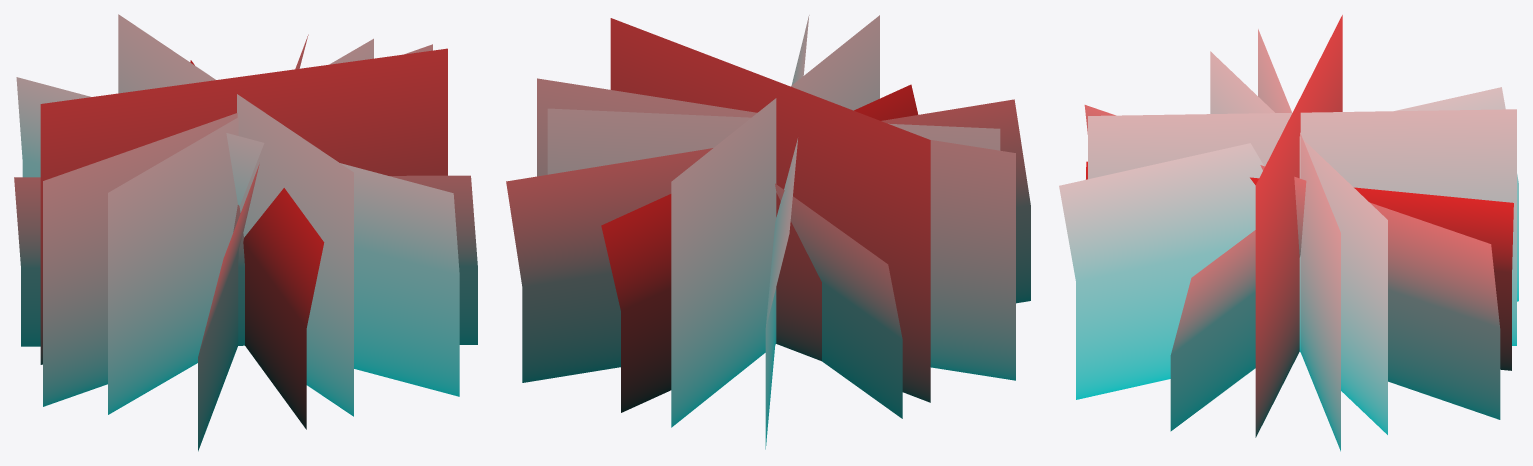
Rendered from EA03_Plant_Meadow_01e.fbx.
The picture shows the model from 3 angles, left to right: view 1: azimuth 30°, elevation 25°; view 2: azimuth 150°, elevation 25°; view 3: azimuth 270°, elevation 25°; orthographic projection. The views are drawn at different scales.
Parts seen in each view (by area): view 1: EA03_Plant_Meadow_01e_LOD0; view 2: EA03_Plant_Meadow_01e_LOD0; view 3: EA03_Plant_Meadow_01e_LOD0.
Boxes of the visible parts, x1,y1,x2,y2 form: EA03_Plant_Meadow_01e_LOD0: (14, 14, 477, 451); EA03_Plant_Meadow_01e_LOD0: (506, 15, 1030, 449); EA03_Plant_Meadow_01e_LOD0: (1059, 15, 1518, 451).
Size of what is drawn, in the model's own units: 2.33 by 1.34 by 2.22.
